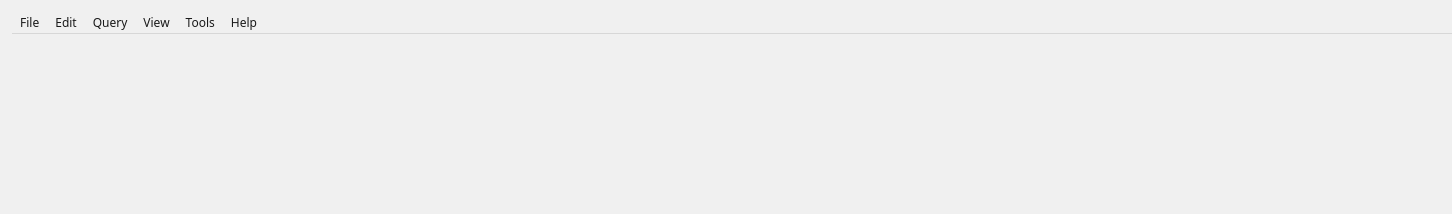
Test: AppMenuBar › moves to the next menu with the arrow keys while open
This screenshot has width=1452, height=214.
Click the menu item with class "menubar__button" showing "File" at (30, 22), box x1=12 y1=12 x2=47 y2=33
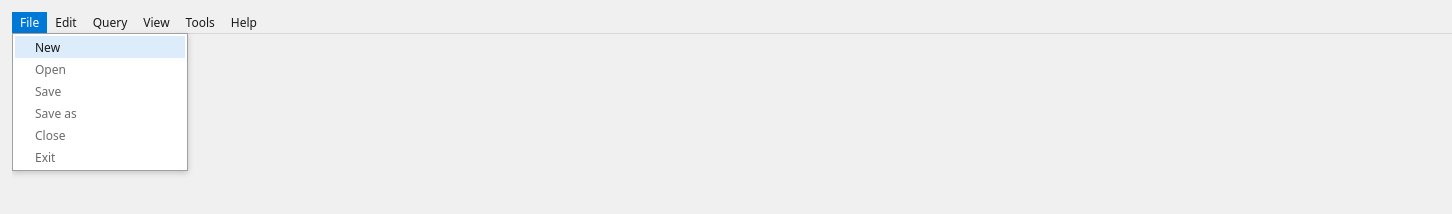
Press ArrowRight in the menu with class "menubar__dropdown", box x1=12 y1=33 x2=188 y2=171
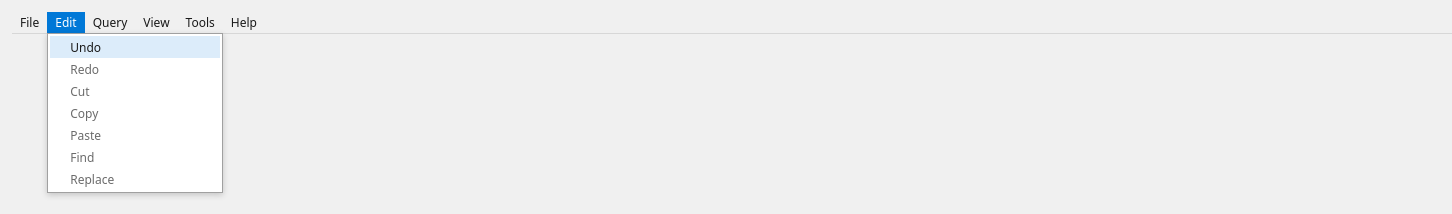
Check: the menu item with class "menubar__button" is collapsed, box x1=12 y1=12 x2=47 y2=33
Check: the menu item with class "menubar__item" reads "Undo", box x1=50 y1=36 x2=220 y2=58
